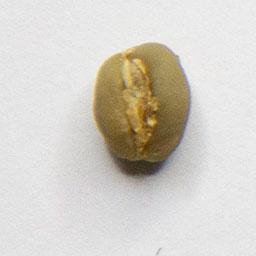peaberry: (90, 38, 194, 168)
